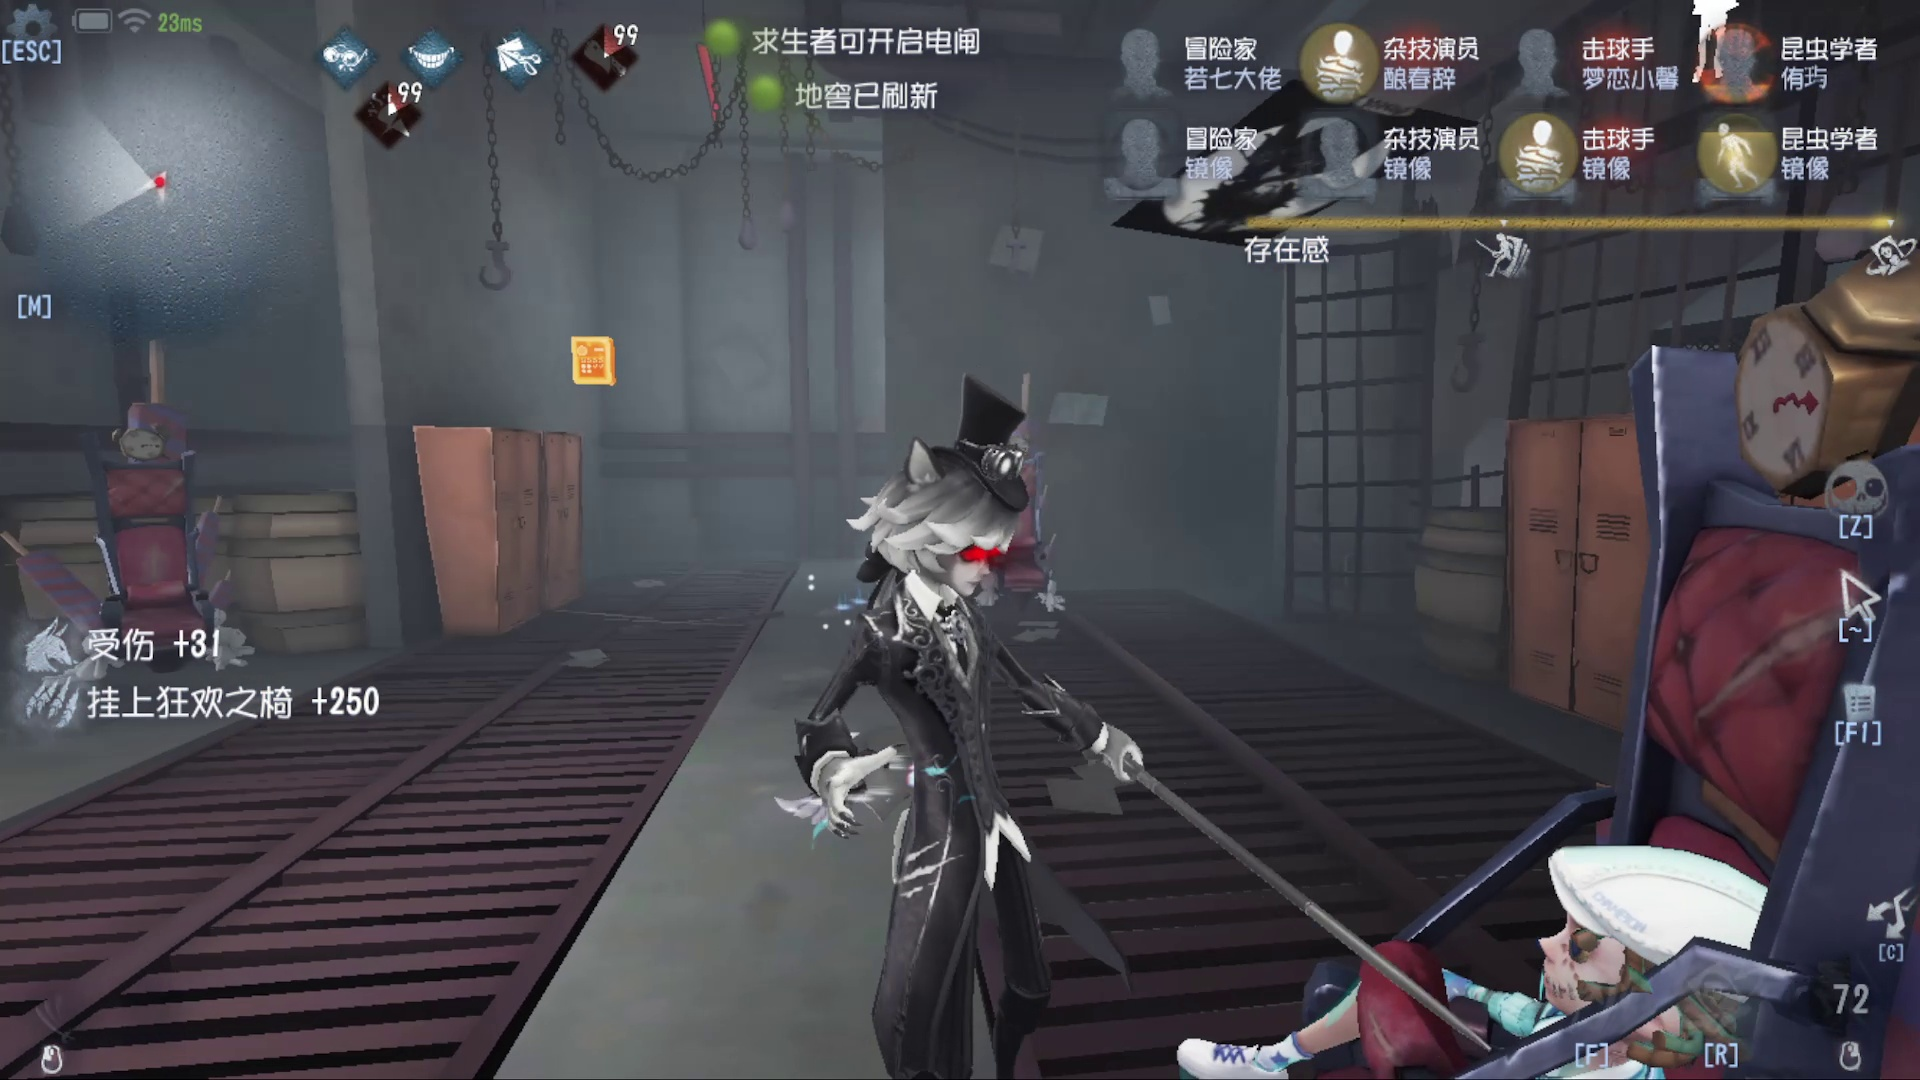狂欢之椅: (59, 356, 264, 695)
